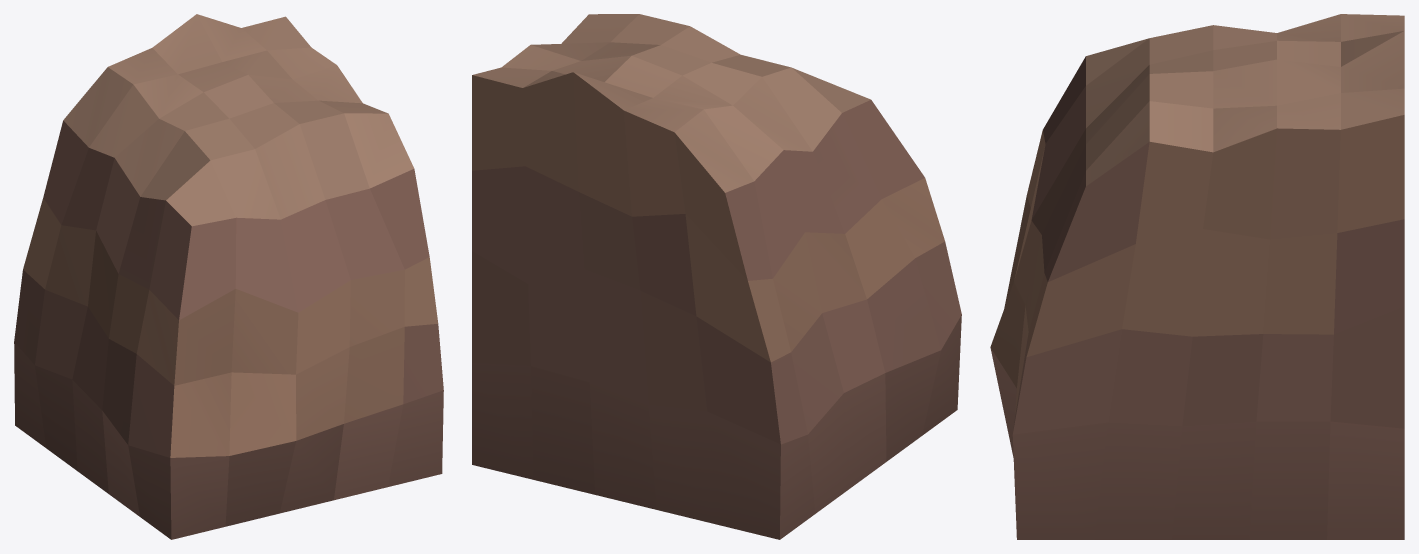
Rendered from roca_esquina.glb.
3 views of the same model, side by side, from view 1: azimuth 30°, elevation 25°; view 2: azimuth 150°, elevation 25°; view 3: azimuth 270°, elevation 25° (orthographic). The views are drawn at different scales.
Visible parts, largest first — view 1: propforge-cuartos-roca_esquina; view 2: propforge-cuartos-roca_esquina; view 3: propforge-cuartos-roca_esquina.
Part boxes in pixels (<box>): propforge-cuartos-roca_esquina: <box>14,14,443,539</box>; propforge-cuartos-roca_esquina: <box>472,14,961,539</box>; propforge-cuartos-roca_esquina: <box>990,14,1404,539</box>.
Size of the model in its own units: 0.9478 by 1.17 by 0.9616.
